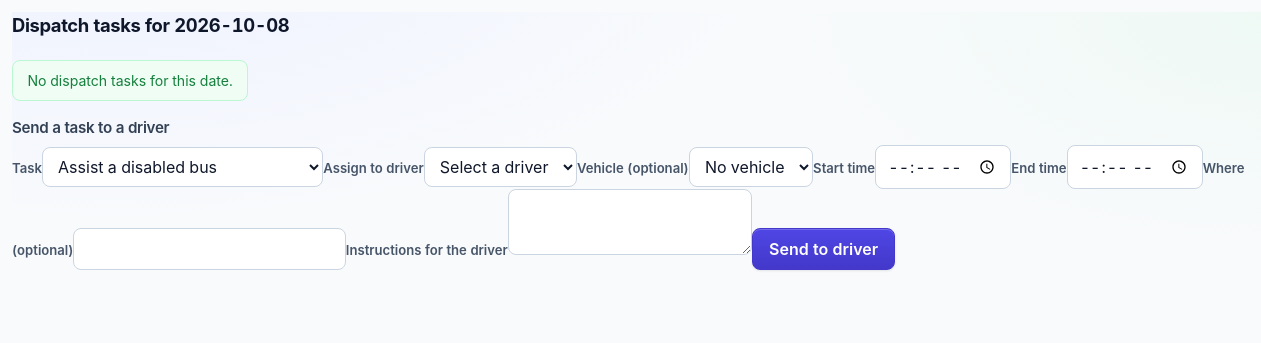
DispatchTasksSection › sends a task with times as minutes of the day and reloads the schedule
Expected: the text "No dispatch tasks for this date." is shown, x1=12 y1=60 x2=248 y2=101
Select "Respond to an emergency" in the dropdown labelled "Task" at [183, 167], box x1=42 y1=147 x2=323 y2=187
Select "Pat Driver" in the dropdown labelled "Assign to driver" at [500, 167], box x1=424 y1=147 x2=577 y2=187
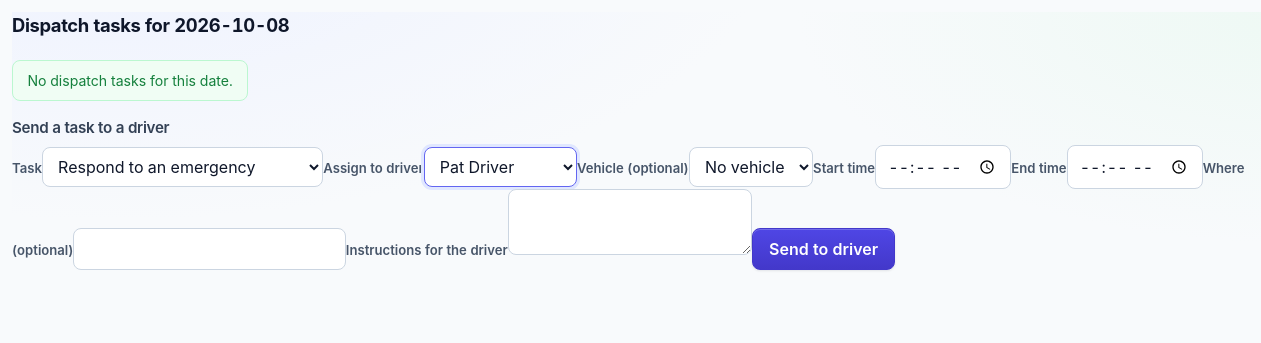
Type "06:40" into the time field labelled "Start time" at [943, 167], box x1=875 y1=145 x2=1011 y2=189
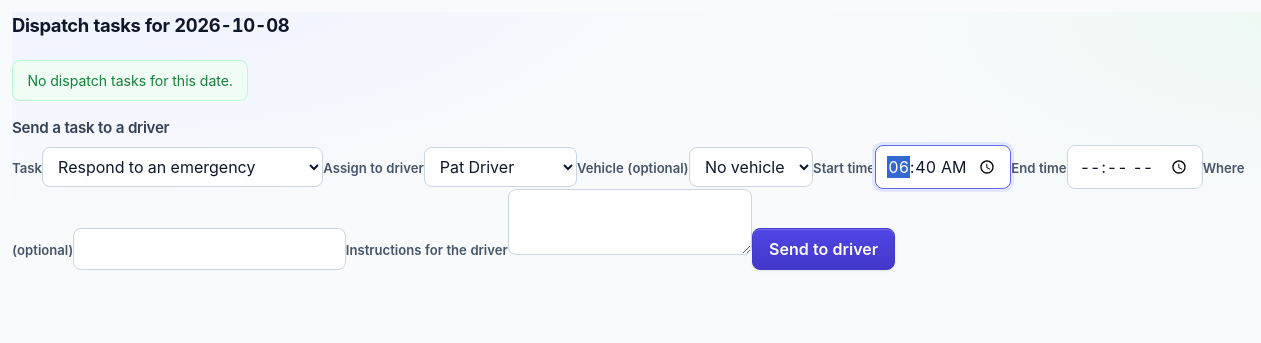
Type "07:50" into the time field labelled "End time" at [1135, 167], box x1=1066 y1=145 x2=1203 y2=189
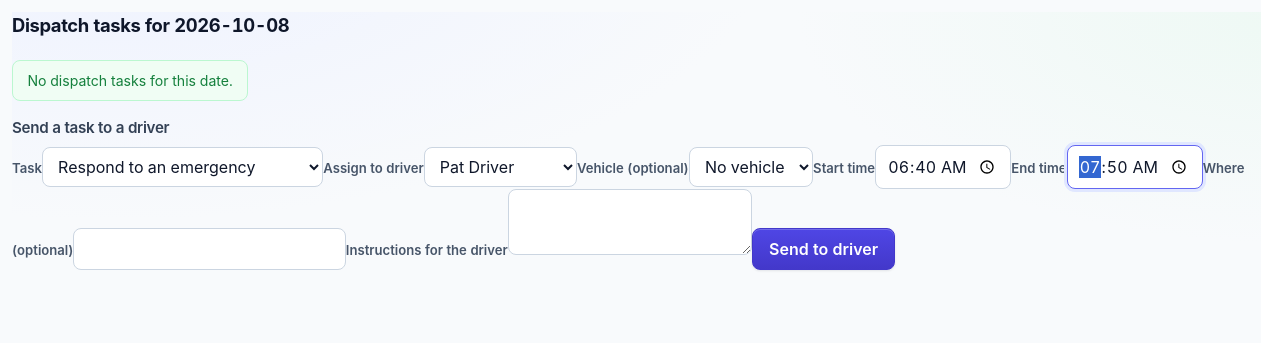
Type "  Oak St & 5th Ave " into the field labelled "Where (optional)" at [210, 249], box x1=73 y1=228 x2=346 y2=270
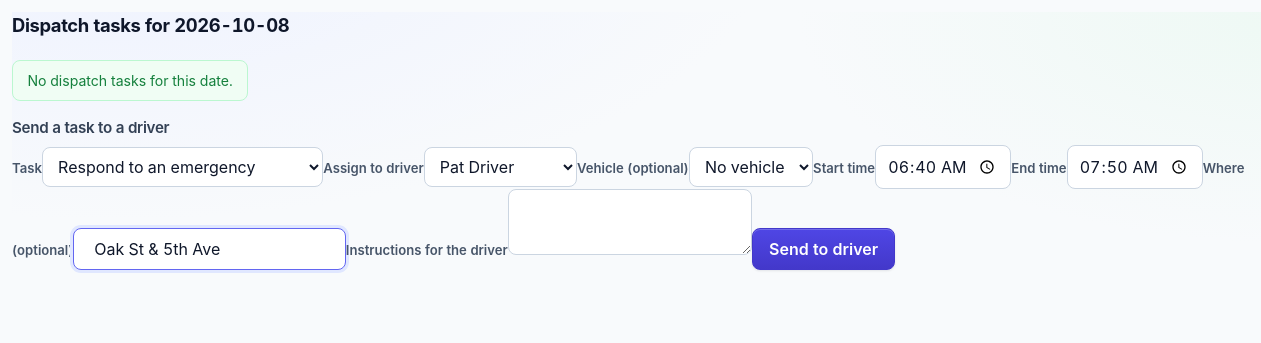
Type "Go now." into the text box labelled "Instructions for the driver" at [630, 222], box x1=508 y1=189 x2=752 y2=255
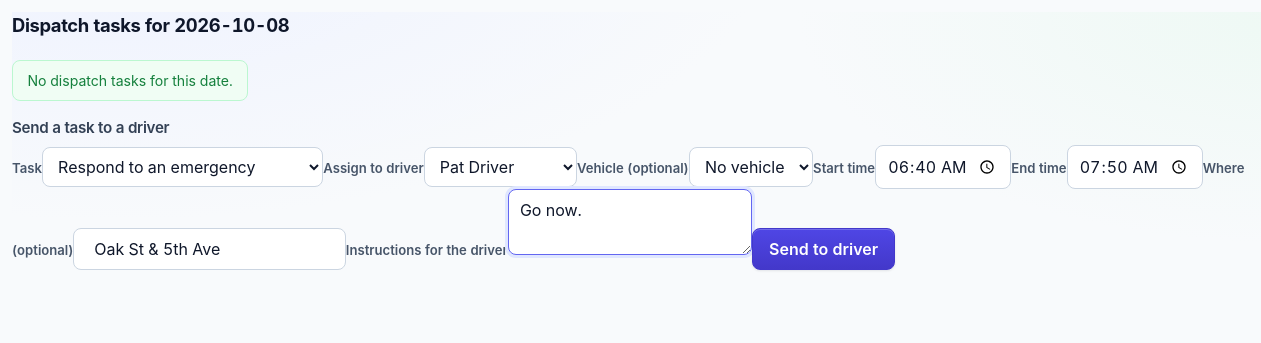
Click the button "Send to driver" at [824, 249], box x1=752 y1=228 x2=895 y2=270
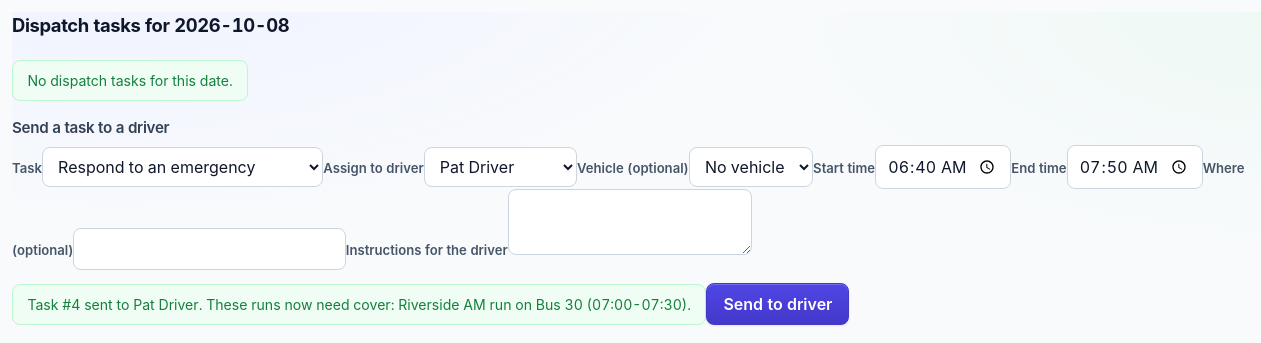
Now the text "Task #4 sent to Pat Driver. These runs now need cover: Riverside AM run on Bus 30 (07:00-07:30)." is shown, box x1=12 y1=284 x2=706 y2=325
